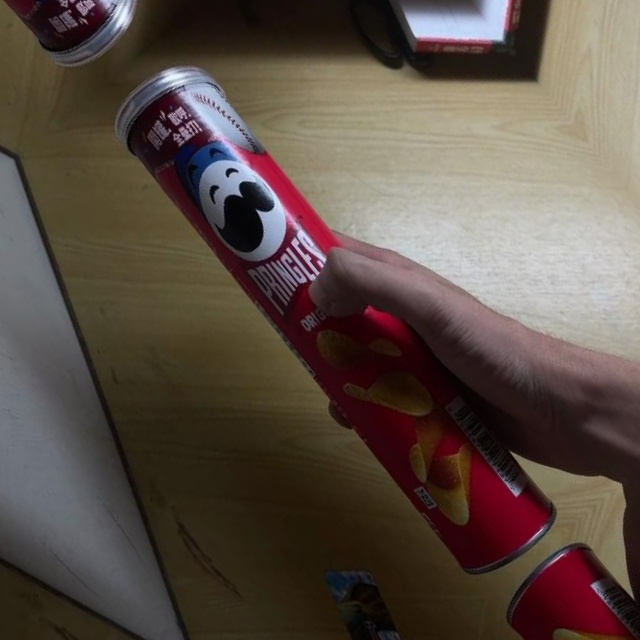Pringles: (93, 47, 575, 588)
